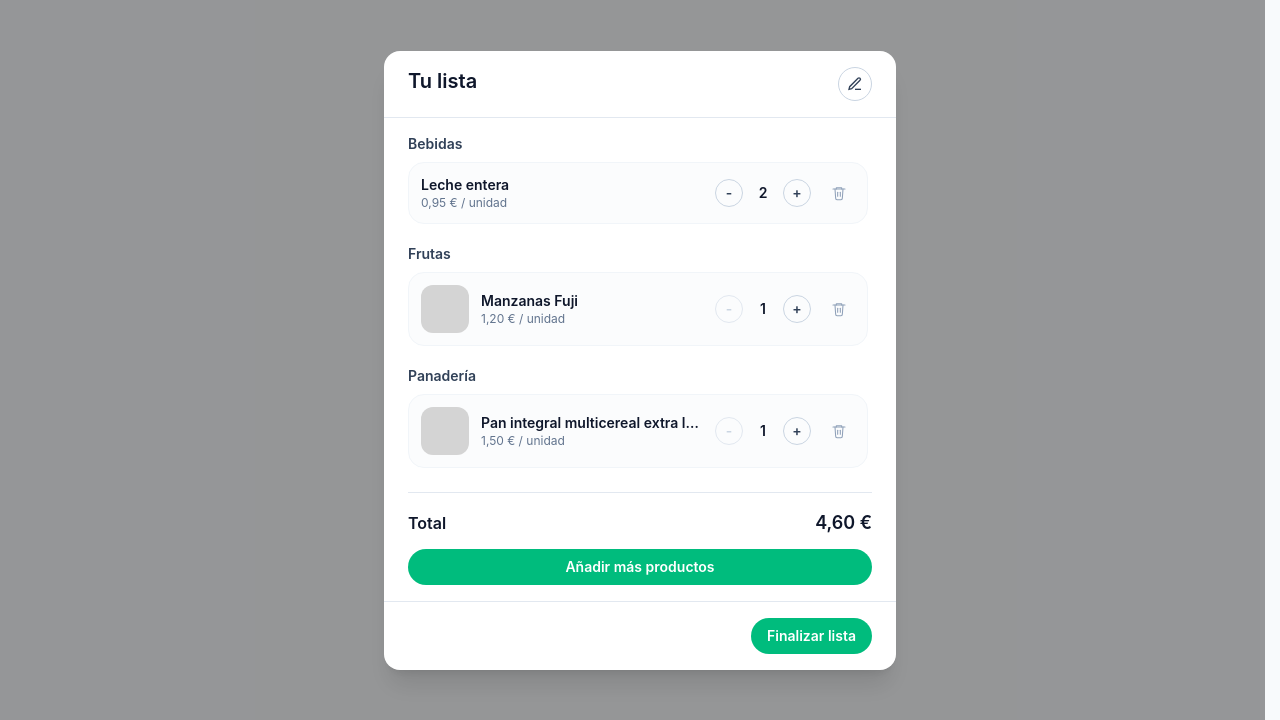
ShoppingList › permite cancelar el borrado desde la confirmación
This screenshot has width=1280, height=720.
Click the button named "Eliminar Manzanas Fuji" at (839, 308), box [823,292,855,324]
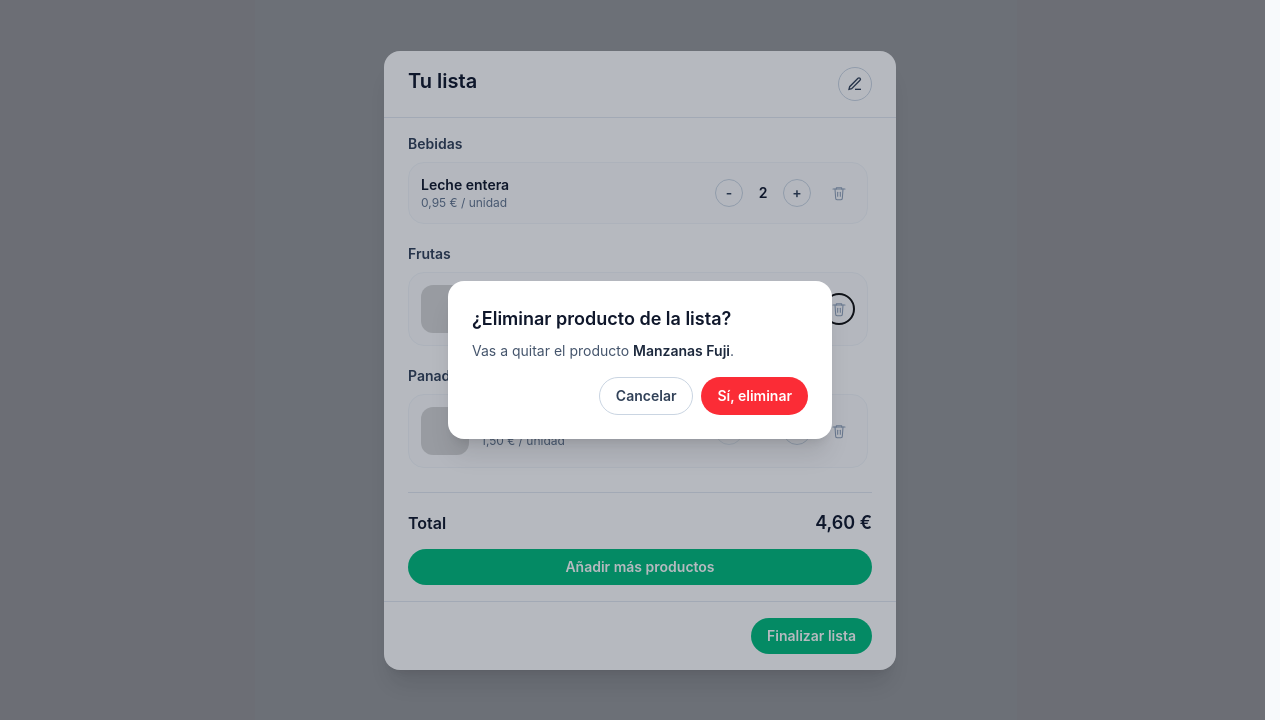
expect the heading "¿Eliminar producto de la lista?" is shown: met, box [472,308,731,329]
Click the button "Cancelar" at (646, 396), box [599,377,694,415]
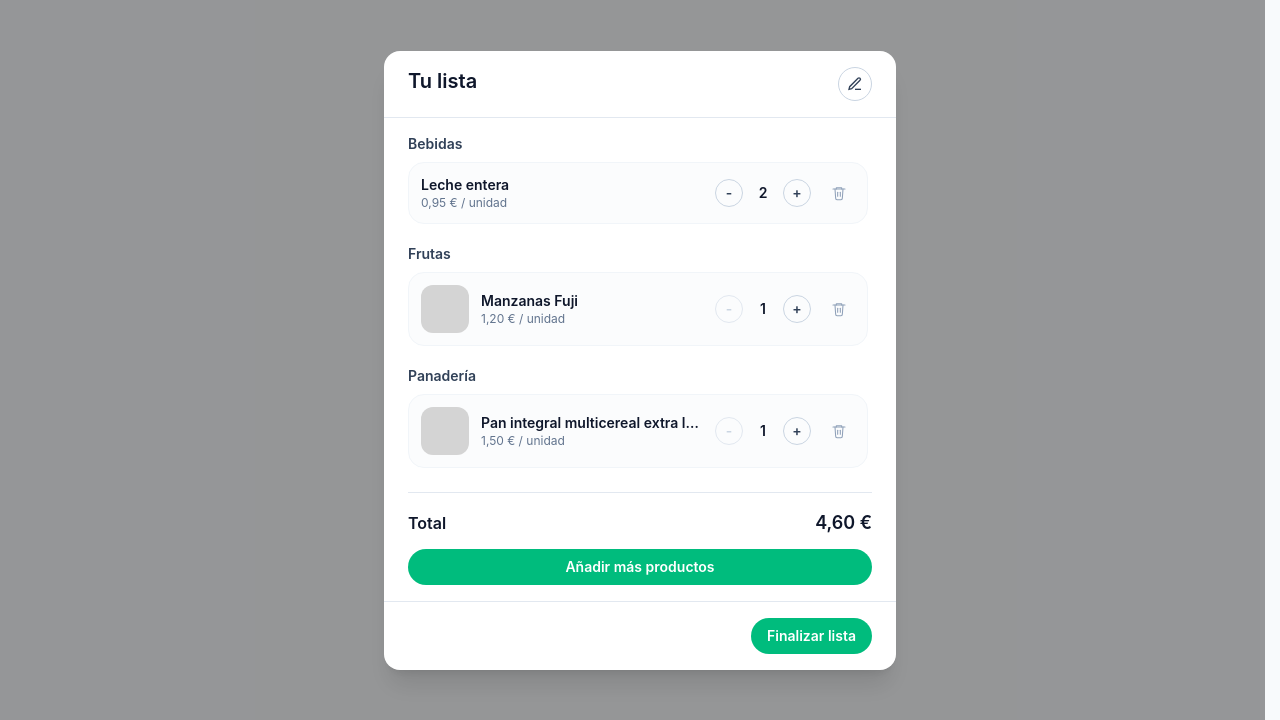
expect the text "Manzanas Fuji" is shown: met, box [481,292,578,308]
expect the heading "¿Eliminar producto de la lista?" is gone: met
